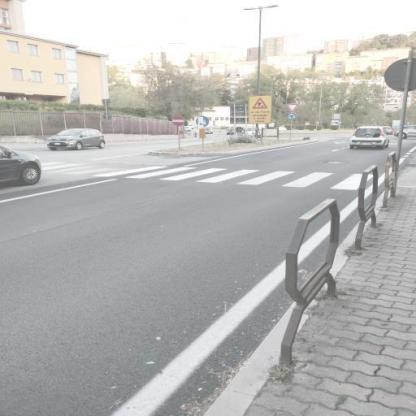crosswalk: (235, 162, 336, 193), (90, 156, 199, 184)
